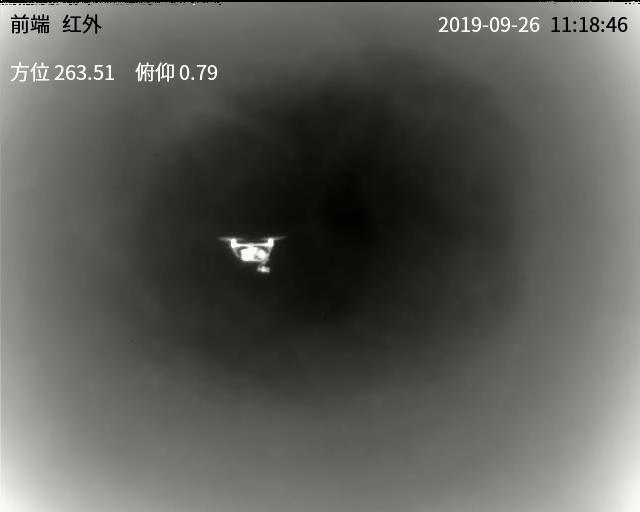uav: (211, 232, 284, 282)
